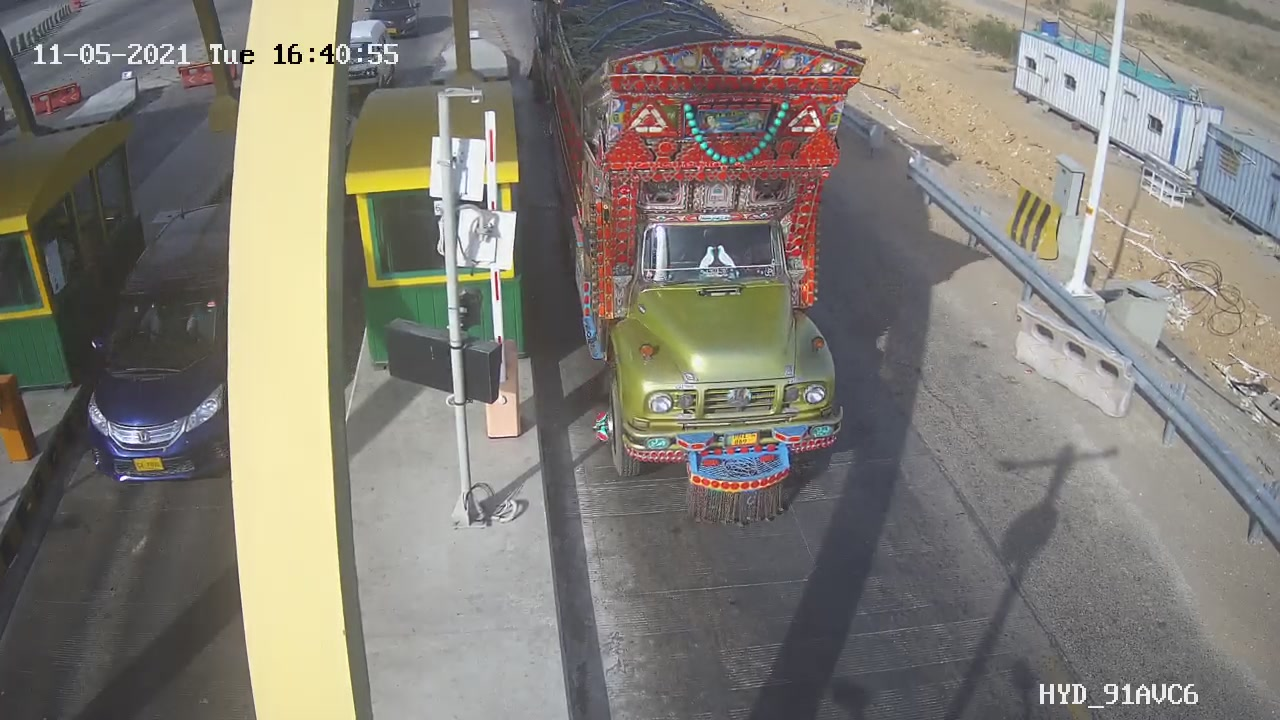F5: (518, 4, 894, 546)
